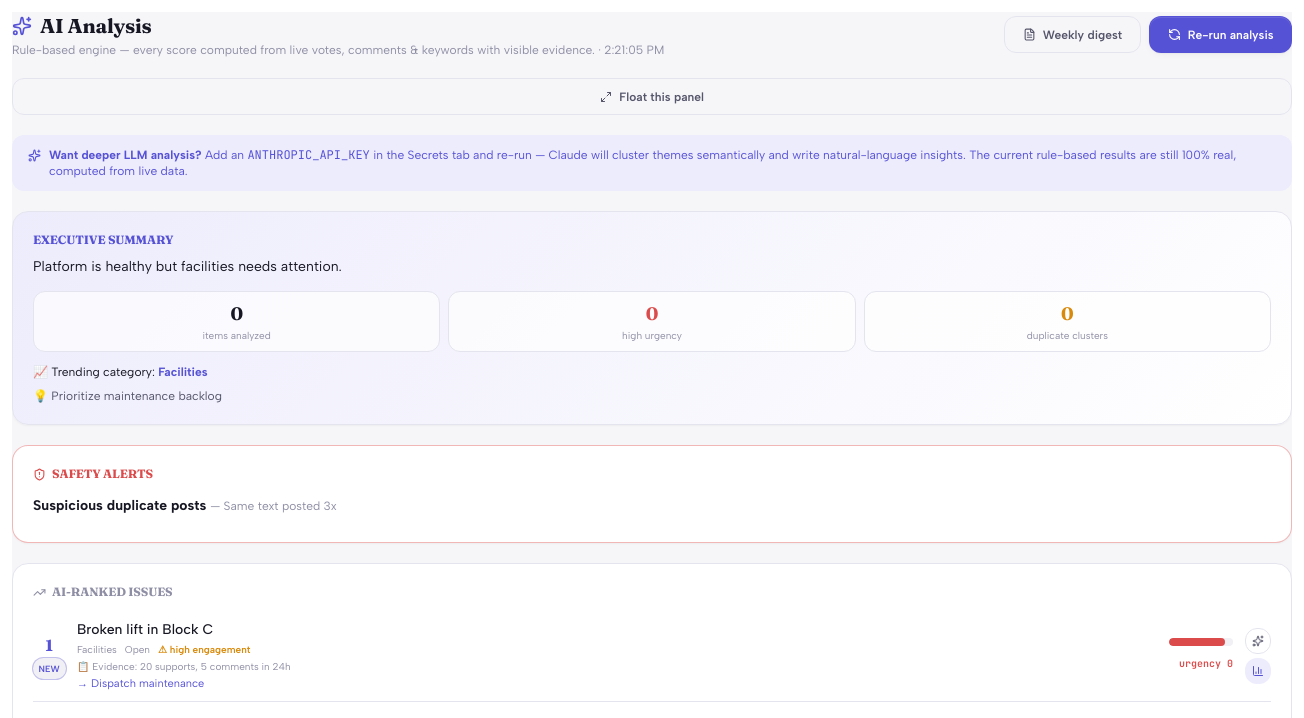
AiPanel (AI Analysis) › generates the weekly staff digest and displays it
Click the button "Weekly digest" at (1072, 35), box [1004,16,1141,54]
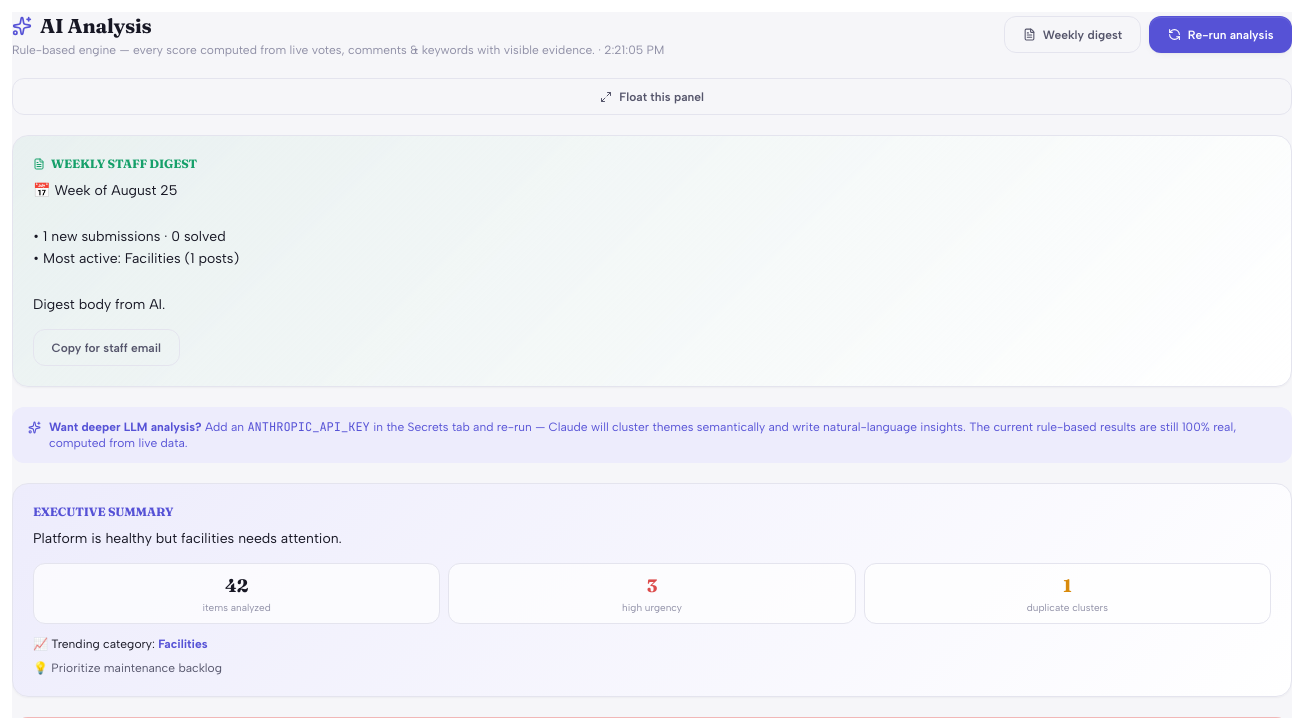
Check: the heading "Weekly staff digest" is shown, box [33,156,197,171]
Check: the text "Digest body from AI." is shown, box [33,182,239,313]
